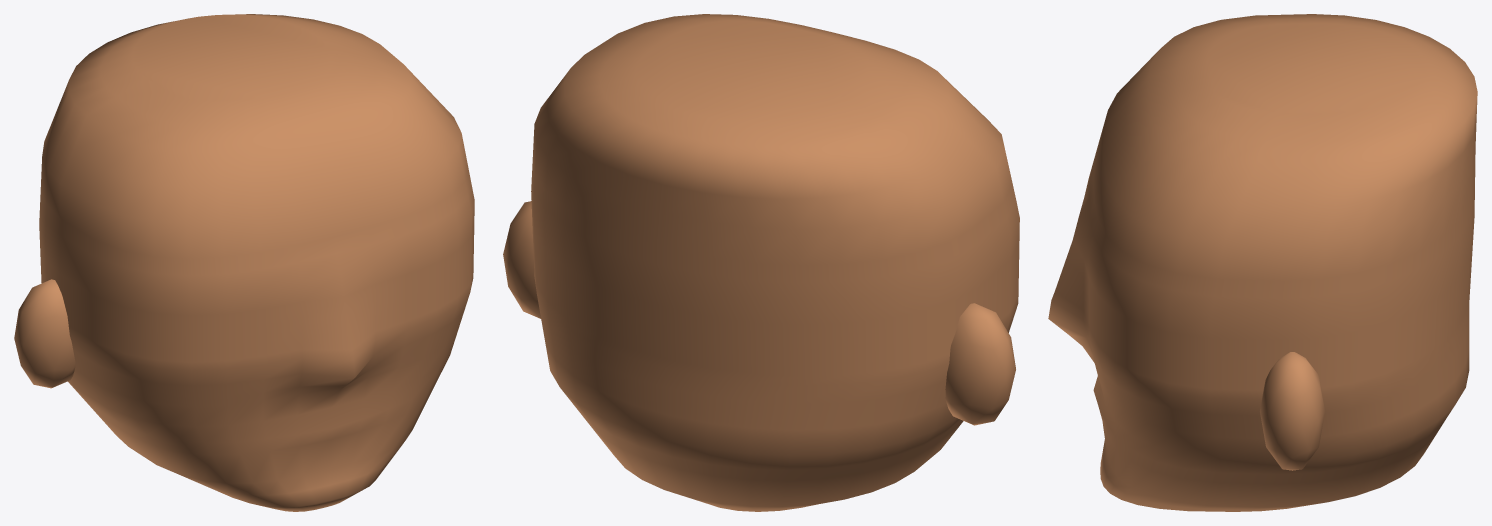
The model's file is head-scout.glb.
3 views of the same model, side by side, from view 1: azimuth 30°, elevation 25°; view 2: azimuth 150°, elevation 25°; view 3: azimuth 270°, elevation 25° (orthographic). The views are drawn at different scales.
Visible parts, largest first — view 1: head-scout_head-scout__head_mesh; view 2: head-scout_head-scout__head_mesh; view 3: head-scout_head-scout__head_mesh.
Part boxes in pixels (<box>): head-scout_head-scout__head_mesh: <box>14,14,474,511</box>; head-scout_head-scout__head_mesh: <box>503,14,1019,511</box>; head-scout_head-scout__head_mesh: <box>1048,14,1477,511</box>.
Bounding box in the file's own units: 0.5499 × 0.45 × 0.4197.
